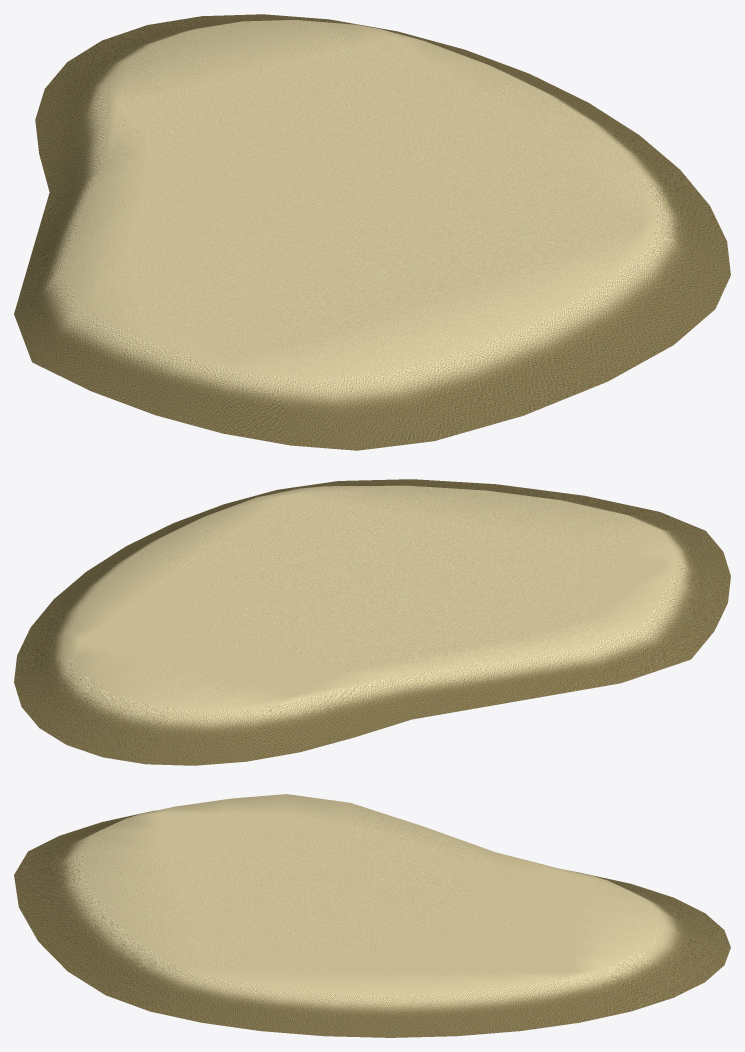
The model's file is island1.fbx.
3 views of the same model, one above another, from view 1: azimuth 30°, elevation 25°; view 2: azimuth 150°, elevation 25°; view 3: azimuth 270°, elevation 25° (orthographic). The views are drawn at different scales.
Visible parts, largest first — view 1: island1; view 2: island1; view 3: island1.
Part boxes in pixels (bbox=[...]): island1: bbox=[14, 14, 730, 450]; island1: bbox=[14, 479, 730, 765]; island1: bbox=[14, 794, 730, 1037].
Bounding box in the file's own units: 3815 × 183 × 4778.
Materials: 1 (1 with a texture image).
